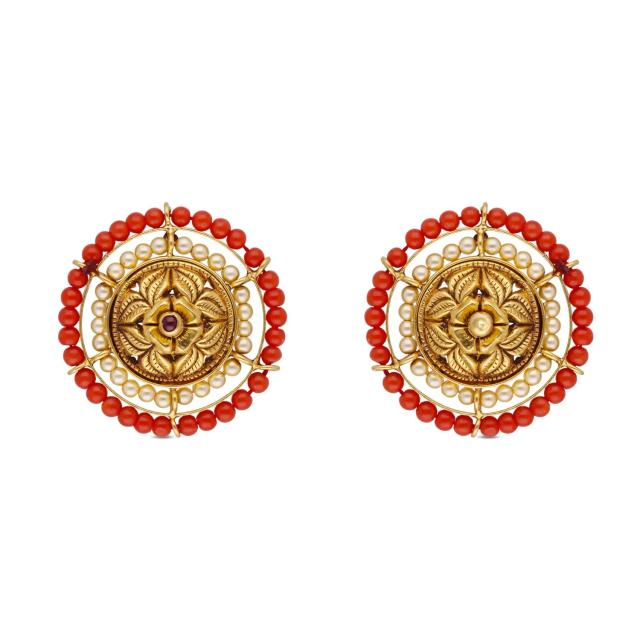missing gem: (474, 317, 490, 332)
